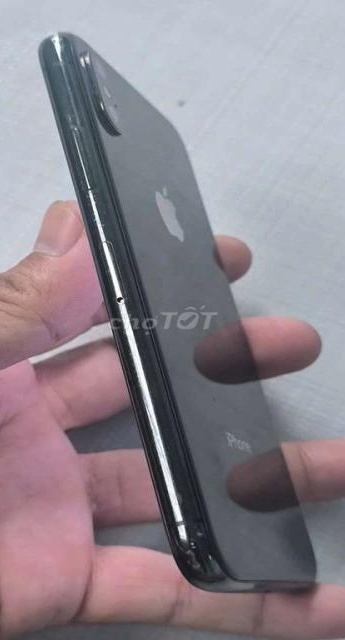scratch: (69, 187, 127, 237), (53, 105, 103, 133), (187, 531, 225, 566), (38, 26, 87, 47), (118, 344, 149, 365), (206, 388, 226, 414)
